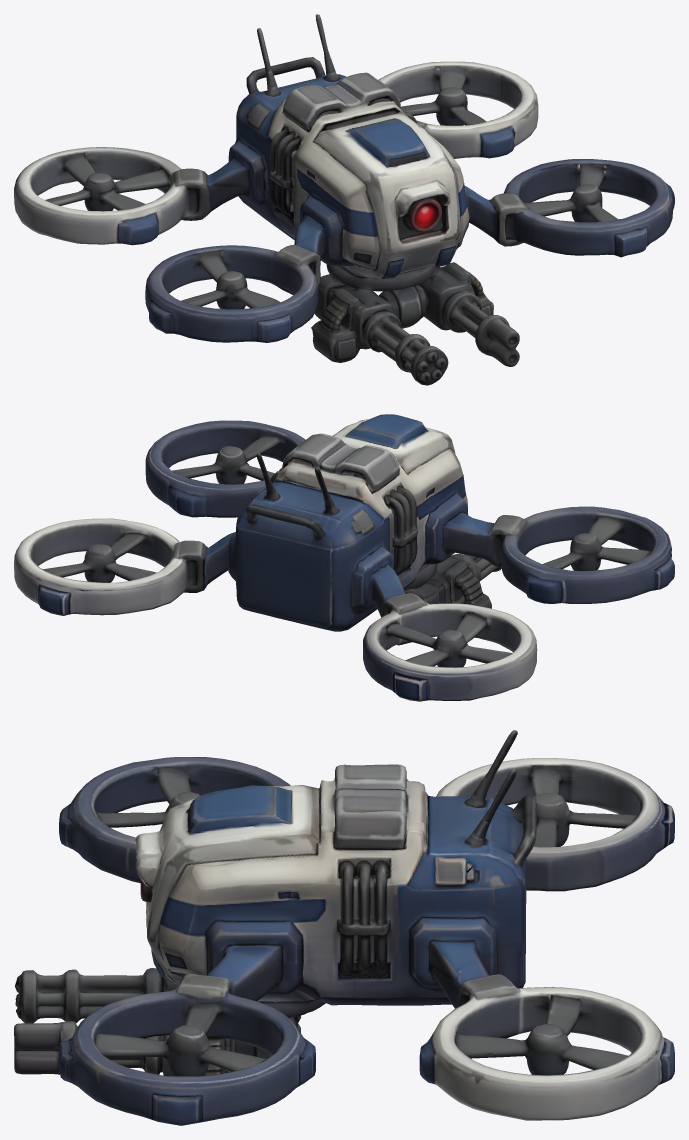
The picture shows the model from 3 angles, top to bottom: view 1: azimuth 30°, elevation 25°; view 2: azimuth 150°, elevation 25°; view 3: azimuth 270°, elevation 25°; orthographic projection. The views are drawn at different scales.
Parts seen in each view (by area): view 1: Cuerpo, Rotor_3, Rotor_1, Rotor_2, Rotor_4; view 2: Cuerpo, Rotor_3, Rotor_1, Rotor_2, Rotor_4; view 3: Cuerpo, Rotor_2, Rotor_4, Rotor_3, Rotor_1.
Boxes of the visible parts, x1,y1,x2,y2 form: Cuerpo: (14,14,674,385); Rotor_3: (45,159,166,211); Rotor_1: (181,259,279,309); Rotor_2: (524,170,617,222); Rotor_4: (401,73,482,125); Cuerpo: (14,414,674,701); Rotor_3: (390,614,511,667); Rotor_1: (542,519,648,570); Rotor_2: (172,438,277,484); Rotor_4: (44,542,149,582); Cuerpo: (14,730,674,1125); Rotor_2: (100,1007,265,1076); Rotor_4: (484,1009,628,1075); Rotor_3: (522,774,636,847); Rotor_1: (101,774,200,827).
Size of the model in its own units: 1.8 by 0.78 by 1.48.
1 material, 1 textured.
